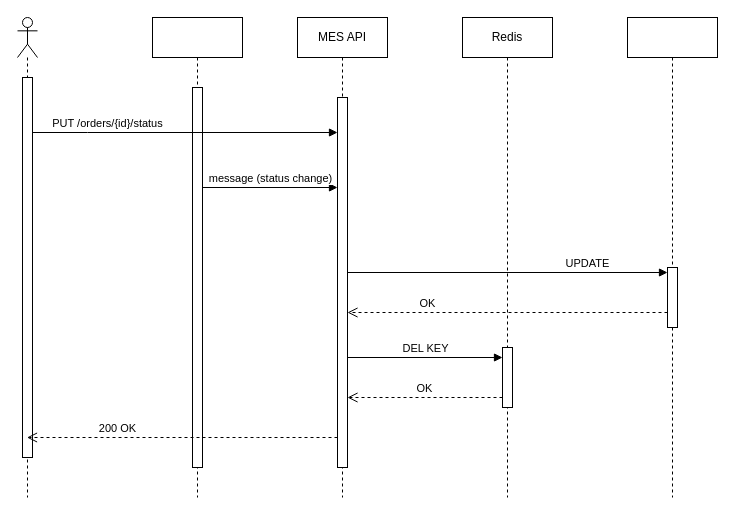
This 735x515 diagram has some shape labels left out. Here are the shapes that lost their labels. From the top down, the box of each, then its label:
(152, 16, 242, 498): RabbitMQ
(626, 16, 718, 498): MES DB
